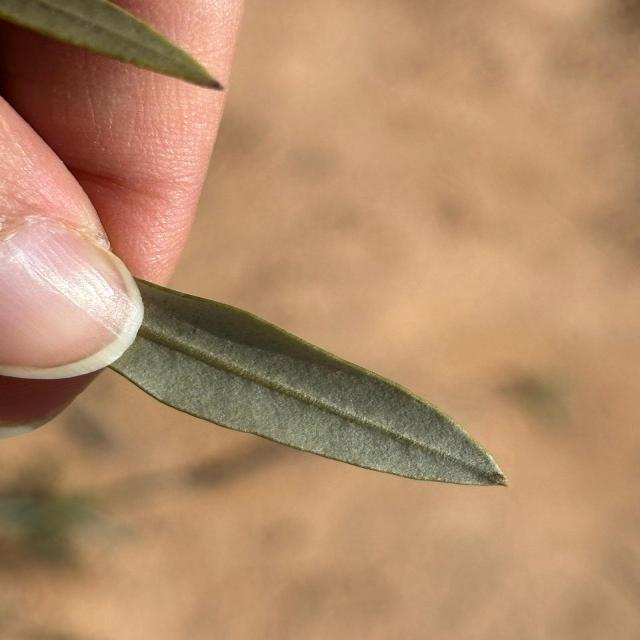Healthy: (111, 278, 507, 486)
